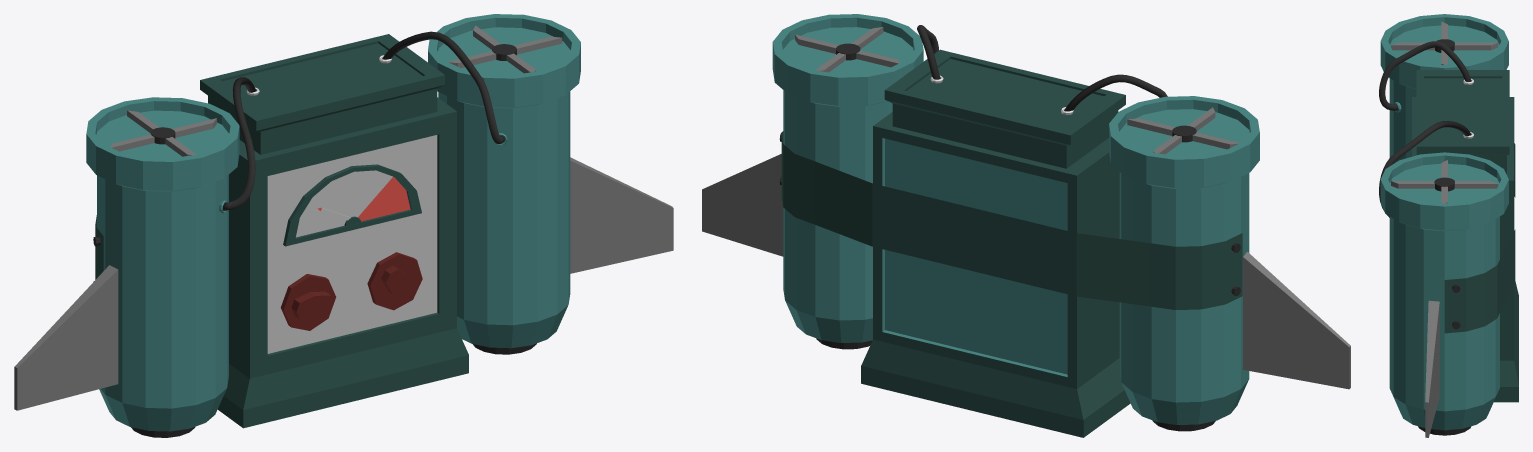
File: jetpack.glb
3 views of the same model, side by side, from view 1: azimuth 30°, elevation 25°; view 2: azimuth 150°, elevation 25°; view 3: azimuth 270°, elevation 25° (orthographic). The views are drawn at different scales.
Parts seen in each view (by area): view 1: Cylinder, Cube, Cube.002, Cylinder.004; view 2: Cylinder, Cube, Cylinder.001, Cylinder.004; view 3: Cylinder, Cube, Cylinder.001, Cylinder.004.
Part boxes in pixels (left/top/right/bottom): Cylinder: left=14, top=14, right=673, bottom=437; Cube: left=200, top=34, right=468, bottom=428; Cube.002: left=296, top=170, right=410, bottom=237; Cylinder.004: left=222, top=31, right=504, bottom=210; Cylinder: left=702, top=14, right=1350, bottom=431; Cube: left=861, top=49, right=1130, bottom=437; Cylinder.001: left=779, top=131, right=1242, bottom=309; Cylinder.004: left=917, top=25, right=1167, bottom=111; Cylinder: left=1380, top=14, right=1508, bottom=437; Cube: left=1412, top=70, right=1518, bottom=402; Cylinder.001: left=1444, top=143, right=1515, bottom=333; Cylinder.004: left=1379, top=41, right=1471, bottom=217.
Bounding box in the file's own units: 6.35 × 3.04 × 1.41.
